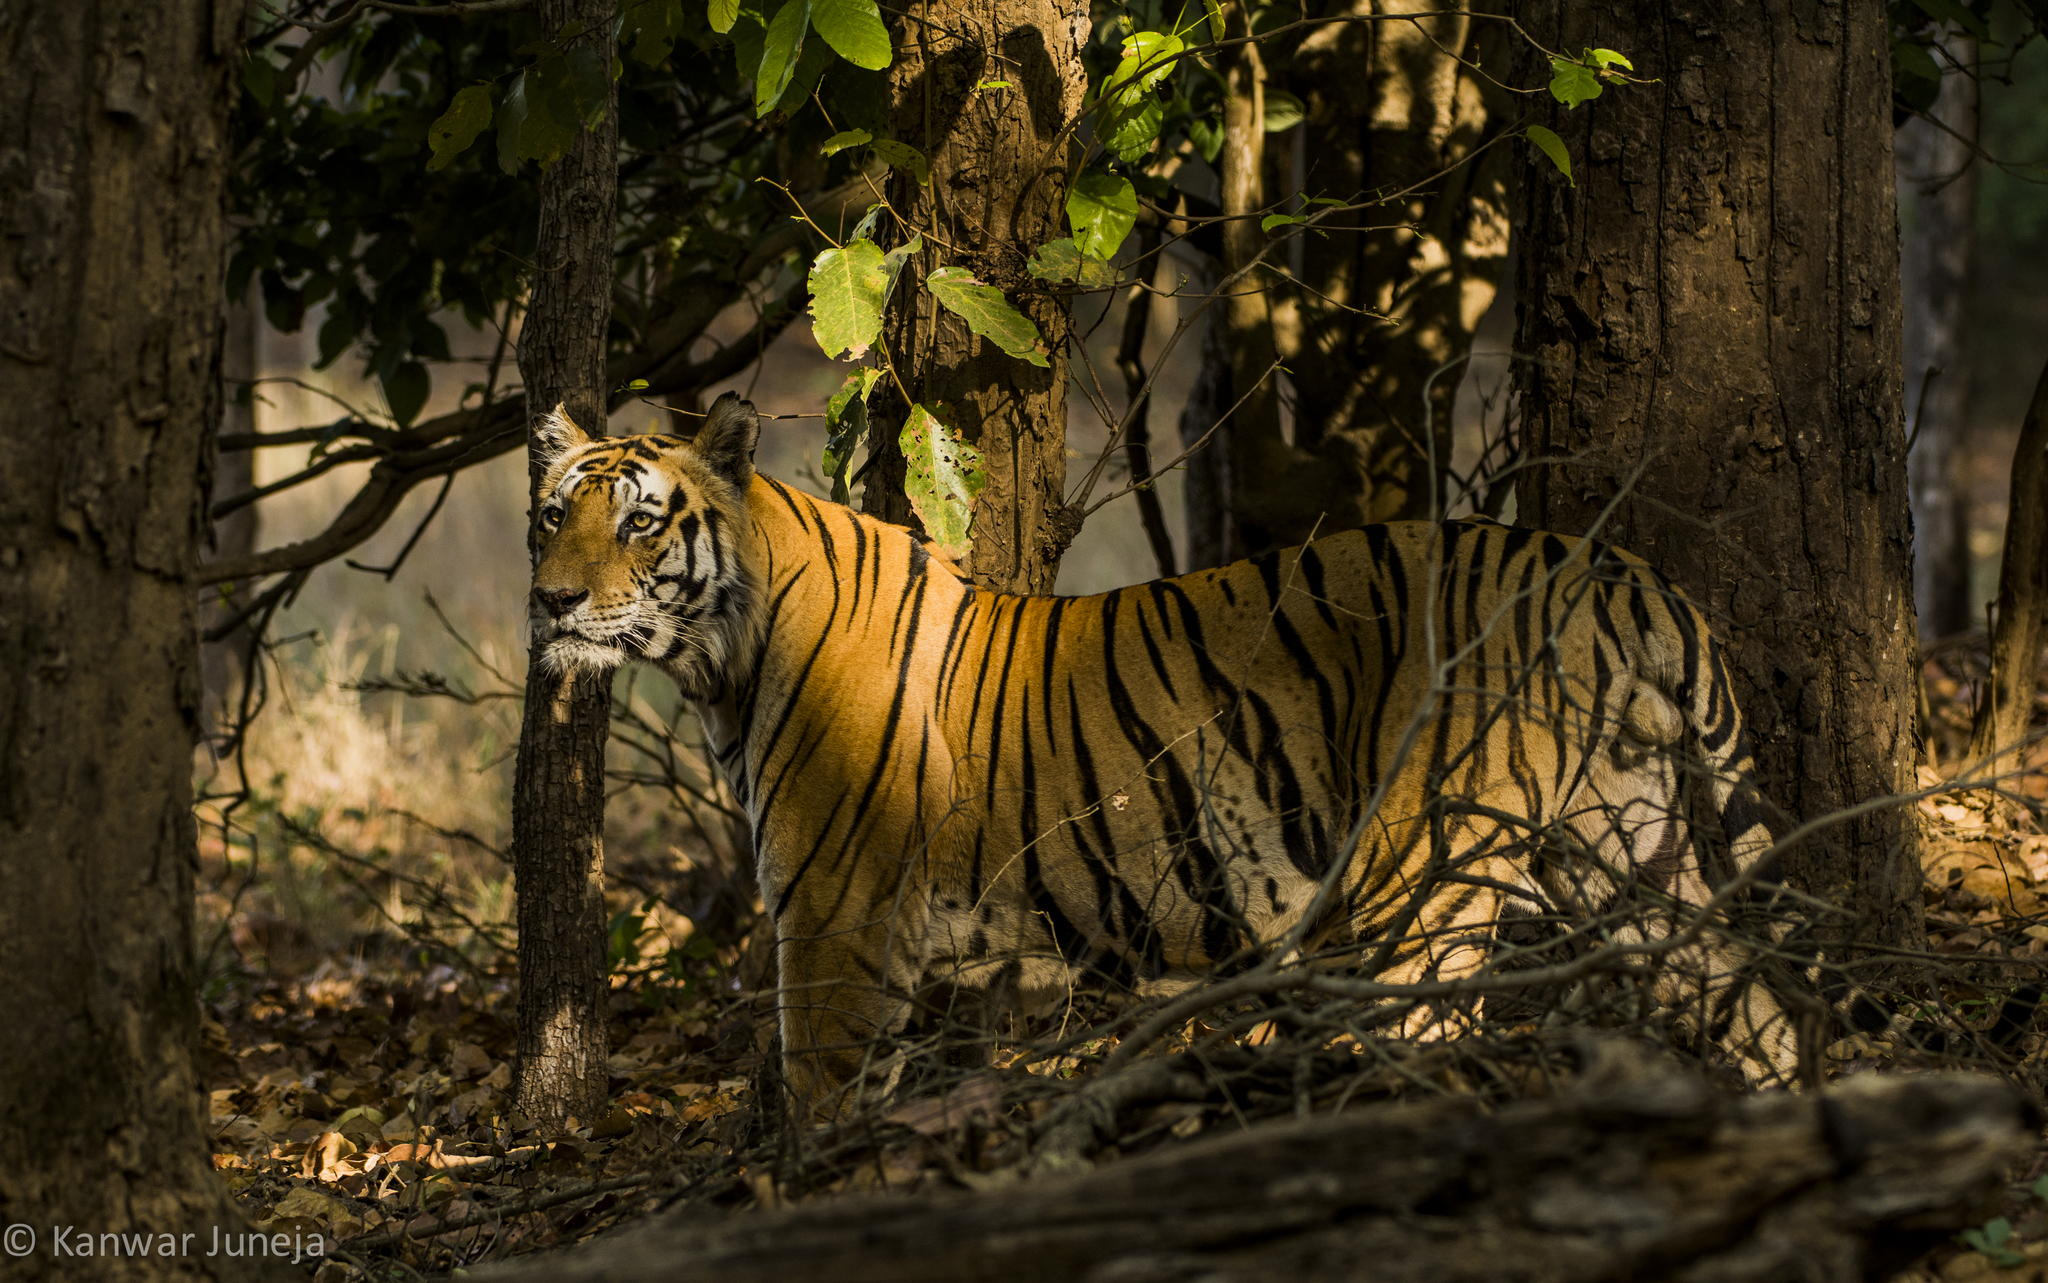tiger: (473, 372, 1803, 1151)
